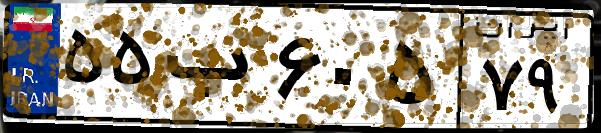0: (330, 28, 385, 110)
5: (385, 28, 445, 110), (57, 26, 110, 100), (110, 28, 158, 98)
6: (270, 28, 330, 110)
7: (475, 38, 525, 113)
9: (525, 38, 570, 115)
ب: (158, 20, 270, 120)
